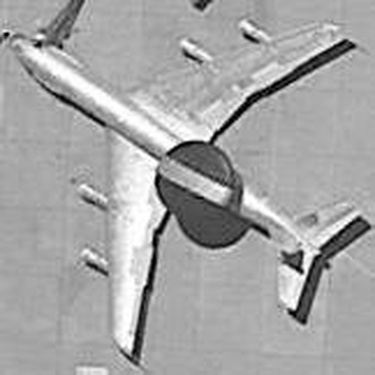airplane: (7, 6, 372, 367)
